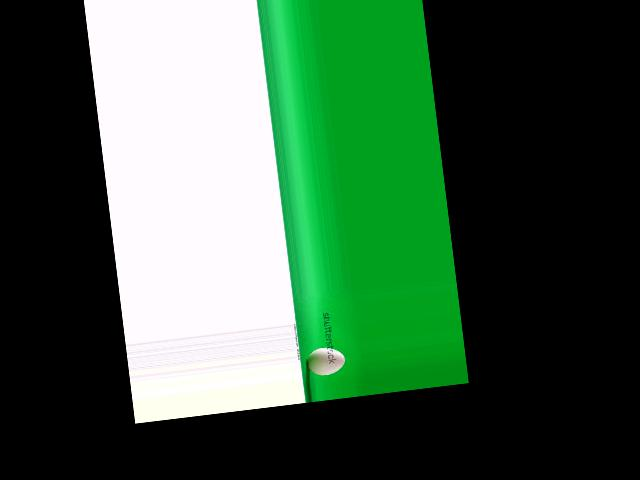egg: (304, 345, 346, 377)
